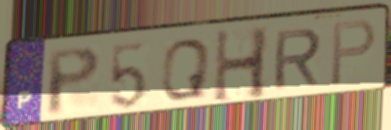5: (108, 39, 151, 110)
H: (210, 24, 271, 105)
P: (46, 44, 104, 118), (328, 16, 378, 89)
Q: (158, 37, 212, 103)
R: (270, 26, 325, 92)
